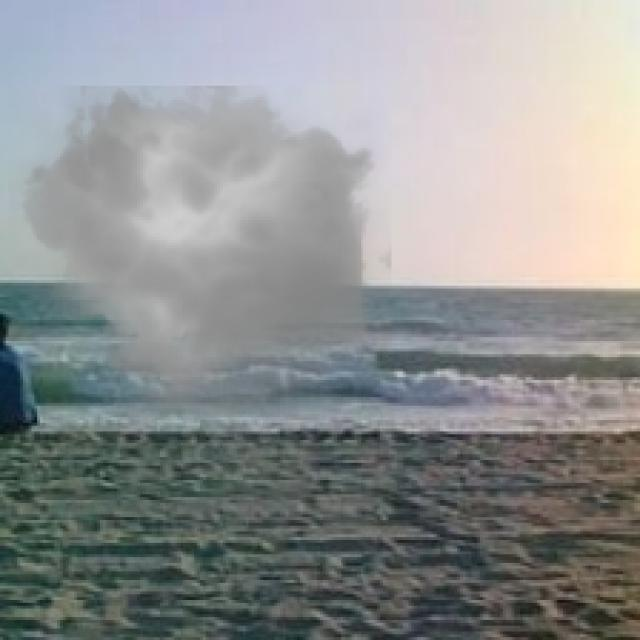Smoke: (9, 69, 392, 428)
